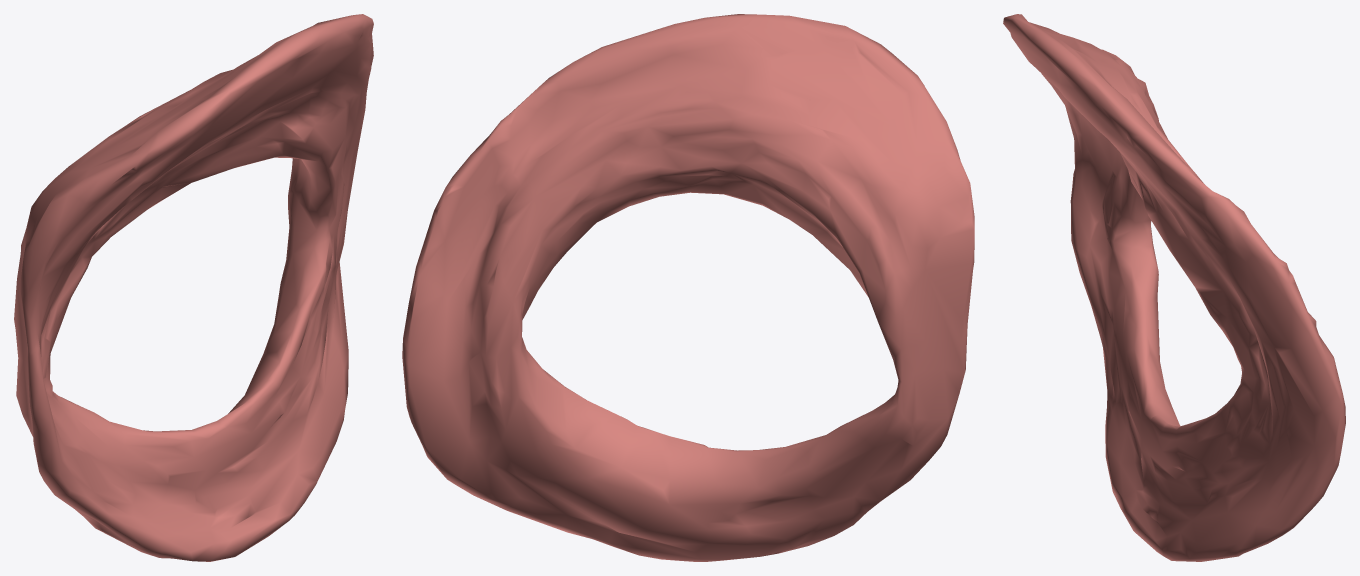
3 renders of one model, left to right at view 1: azimuth 30°, elevation 25°; view 2: azimuth 150°, elevation 25°; view 3: azimuth 270°, elevation 25°, orthographic. The views are drawn at different scales.
Visible parts, largest first — view 1: ZA_bf646586600ac05b; view 2: ZA_bf646586600ac05b; view 3: ZA_bf646586600ac05b.
Boxes of the visible parts, x1,y1,x2,y2 form: ZA_bf646586600ac05b: (14,14,373,561); ZA_bf646586600ac05b: (402,14,974,561); ZA_bf646586600ac05b: (1003,14,1345,561).
Bounding box in the file's own units: 0.0443 × 0.0497 × 0.0314.
